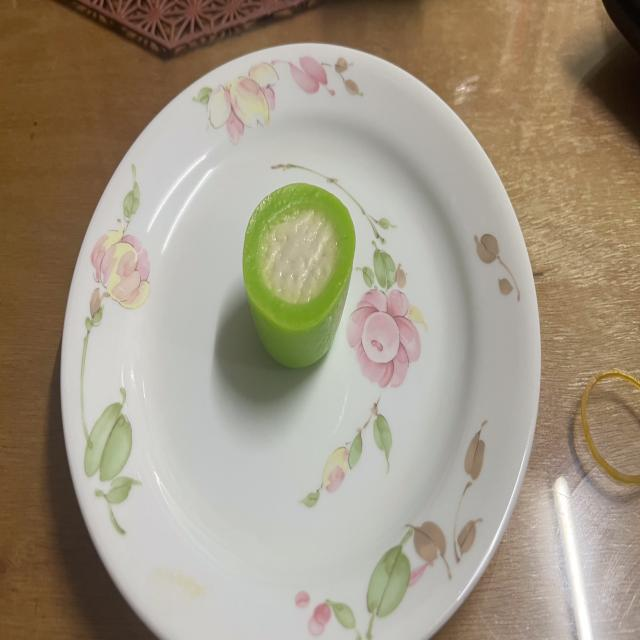nona-manis: (242, 182, 355, 367)
